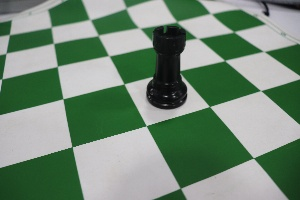black_rook: (139, 13, 198, 121)
